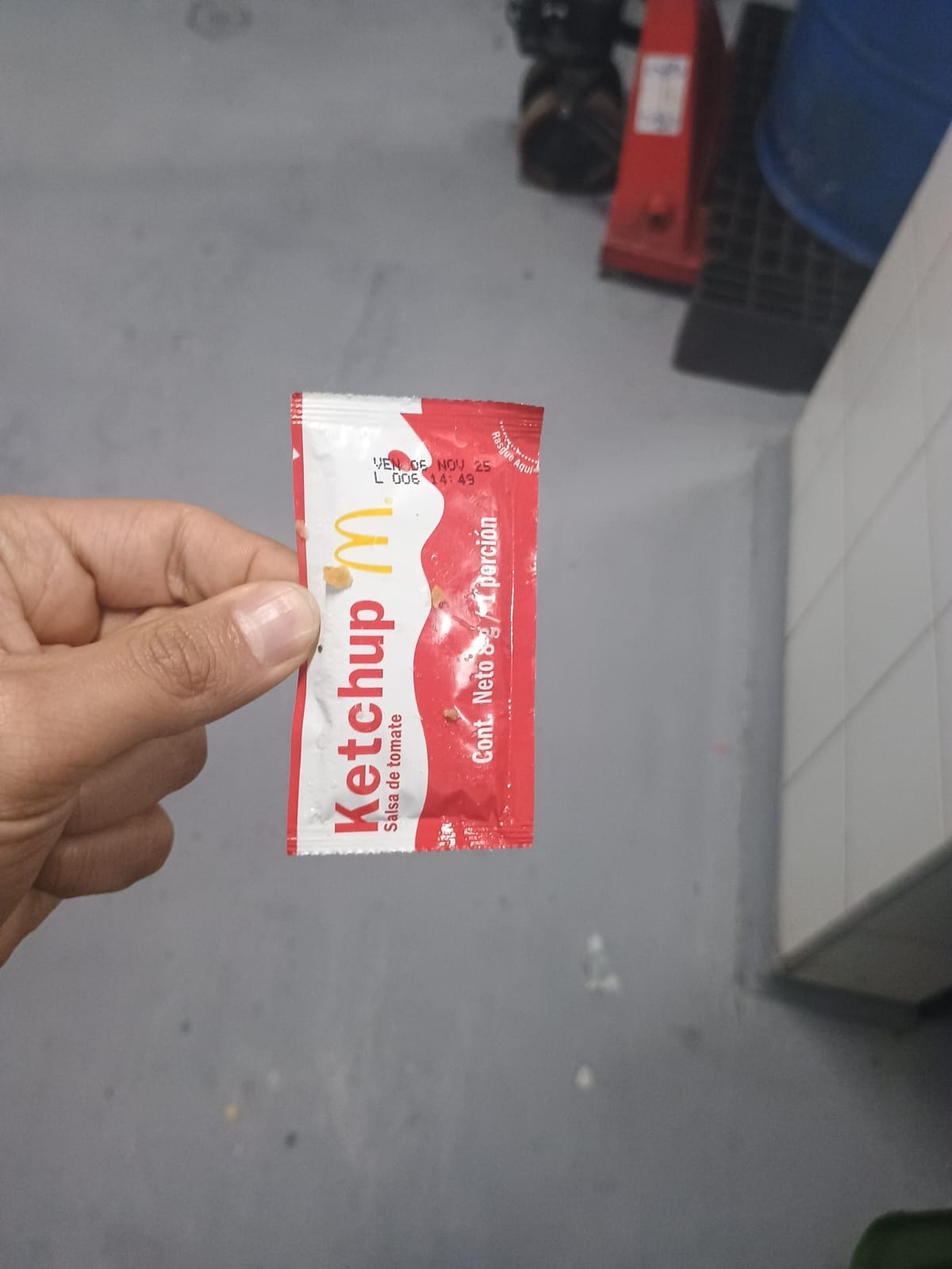Ordinario: (287, 393, 545, 855)
